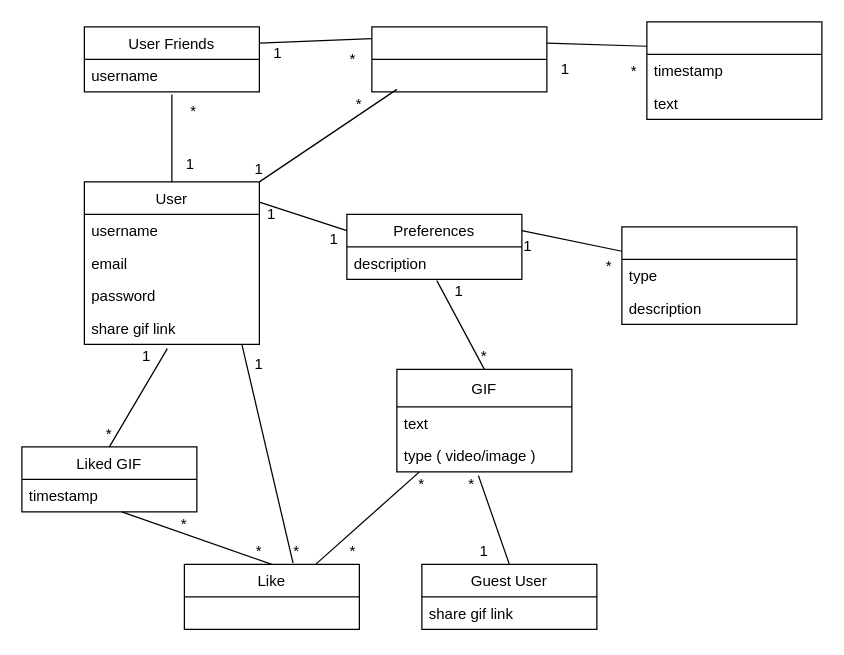
This 844x655 diagram has some shape labels left out. Here are the shapes that lost their labels. From the top down, the box of each, then its label:
(371, 26, 547, 92): Direct Message
(646, 21, 822, 119): Messages
(621, 226, 797, 324): Genre
